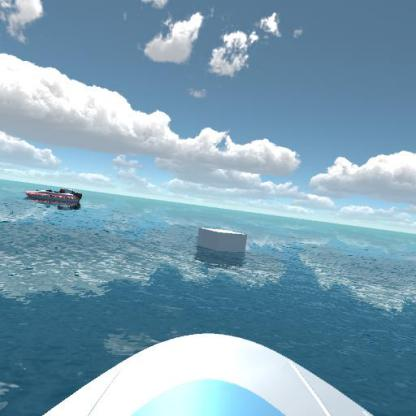usv3: (24, 180, 85, 214)
